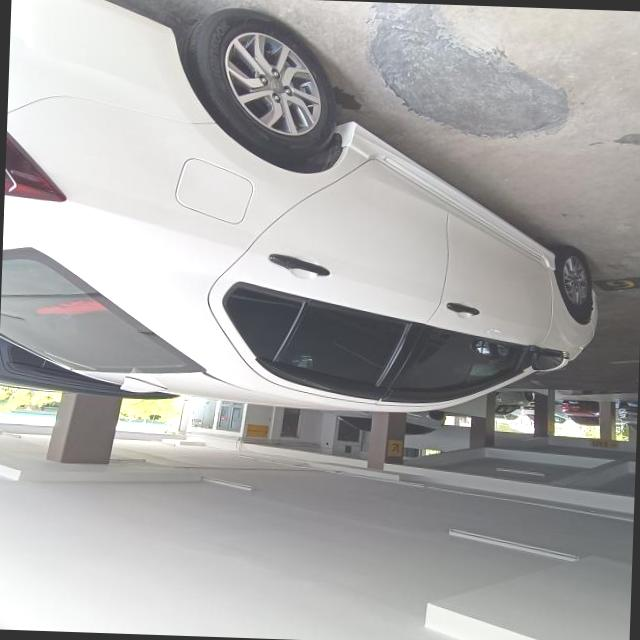PeroduaBezza: (0, 0, 609, 422)
